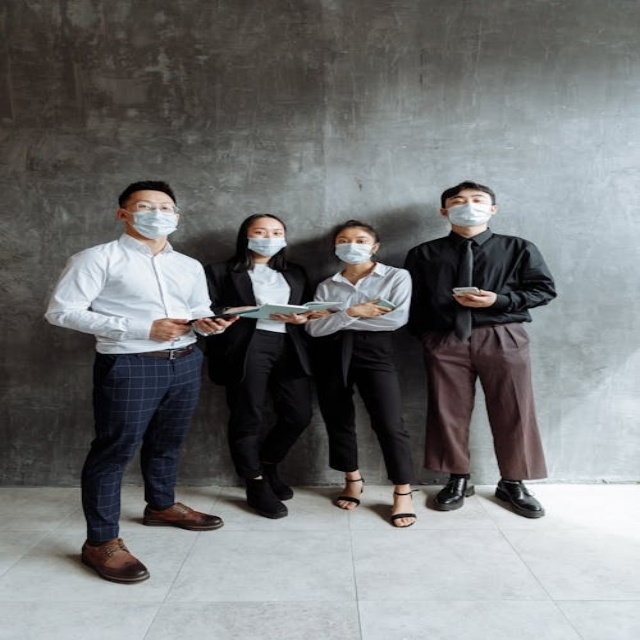Gafas: (125, 204, 180, 214)
Mascara: (126, 209, 179, 238), (446, 202, 493, 227), (334, 242, 376, 265), (246, 237, 287, 257)
Sin_gafas: (244, 221, 288, 236), (337, 230, 375, 243), (445, 196, 491, 205)
Sin_guantes: (191, 314, 242, 340), (448, 283, 494, 311), (148, 313, 184, 346), (348, 299, 394, 322), (271, 310, 308, 327), (310, 307, 333, 320)
